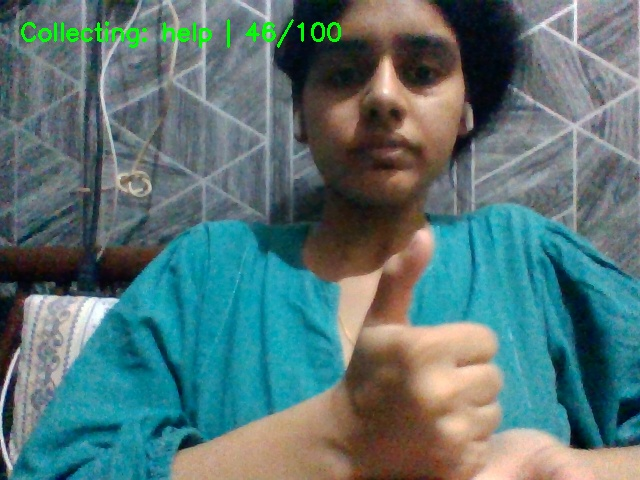help: (296, 192, 618, 480)
